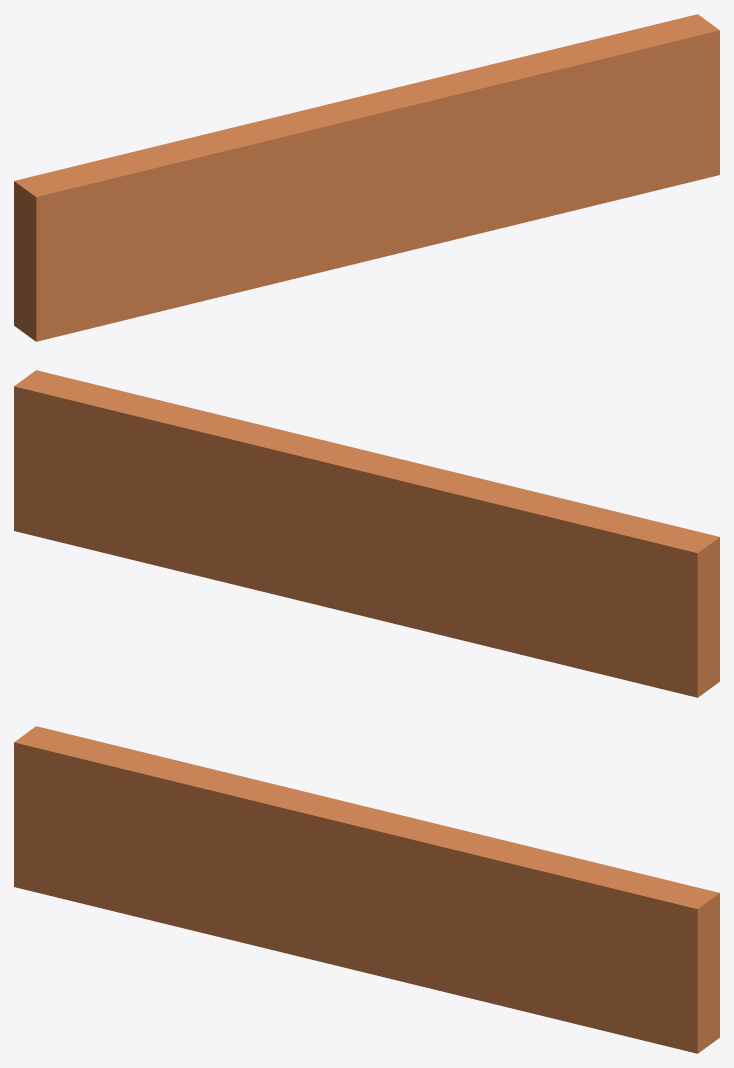
The model's file is SciFi_sprinkler_02.DAE.
3 renders of one model, top to bottom at view 1: azimuth 30°, elevation 25°; view 2: azimuth 150°, elevation 25°; view 3: azimuth 330°, elevation 25°, orthographic.
Visible parts, largest first — view 1: bounds; view 2: bounds; view 3: bounds.
Boxes of the visible parts, box(x1,y1,x2,y2) form: bounds: box(14, 14, 719, 341); bounds: box(14, 370, 719, 697); bounds: box(14, 726, 719, 1053).
Size of the model in its own units: 676 by 38.23 by 137.
